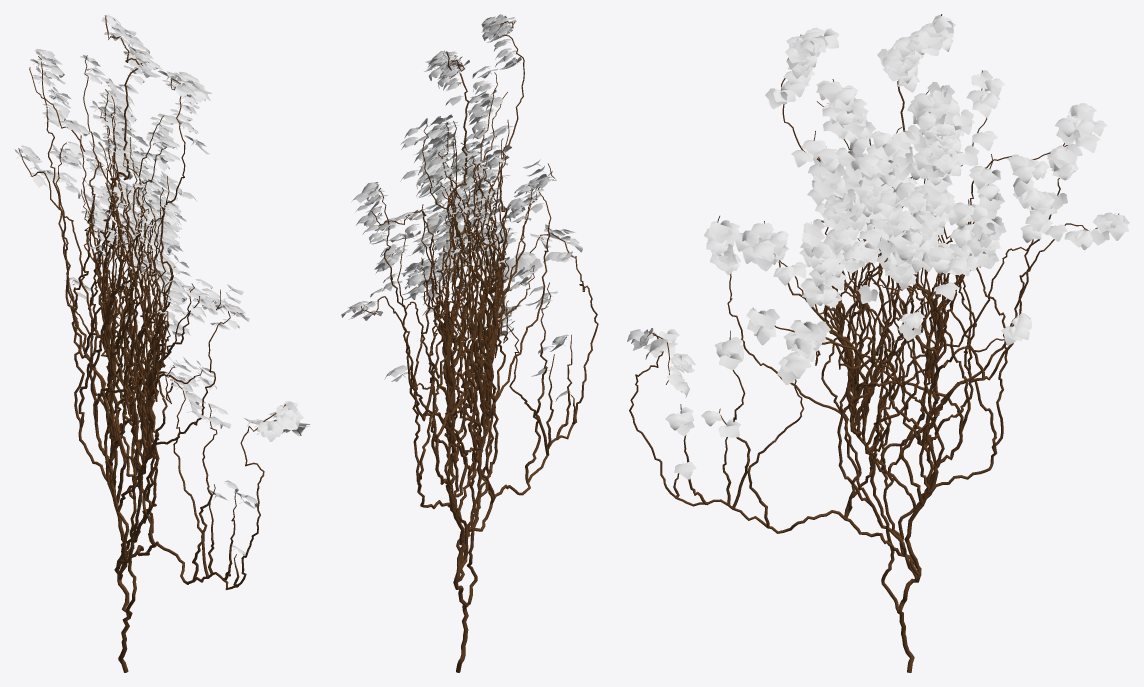
The model's file is garden_pillar_ivy_06.fbx.
The picture shows the model from 3 angles, left to right: view 1: azimuth 30°, elevation 25°; view 2: azimuth 150°, elevation 25°; view 3: azimuth 270°, elevation 25°; orthographic projection. The views are drawn at different scales.
Parts seen in each view (by area): view 1: IVY_Curve.001; view 2: IVY_Curve.001; view 3: IVY_Curve.001.
Boxes of the visible parts, left/top/right/bottom form: IVY_Curve.001: left=14, top=15, right=310, bottom=672; IVY_Curve.001: left=341, top=14, right=598, bottom=672; IVY_Curve.001: left=627, top=14, right=1129, bottom=672.
Size of the model in its own units: 1.52 by 11.66 by 8.09.
